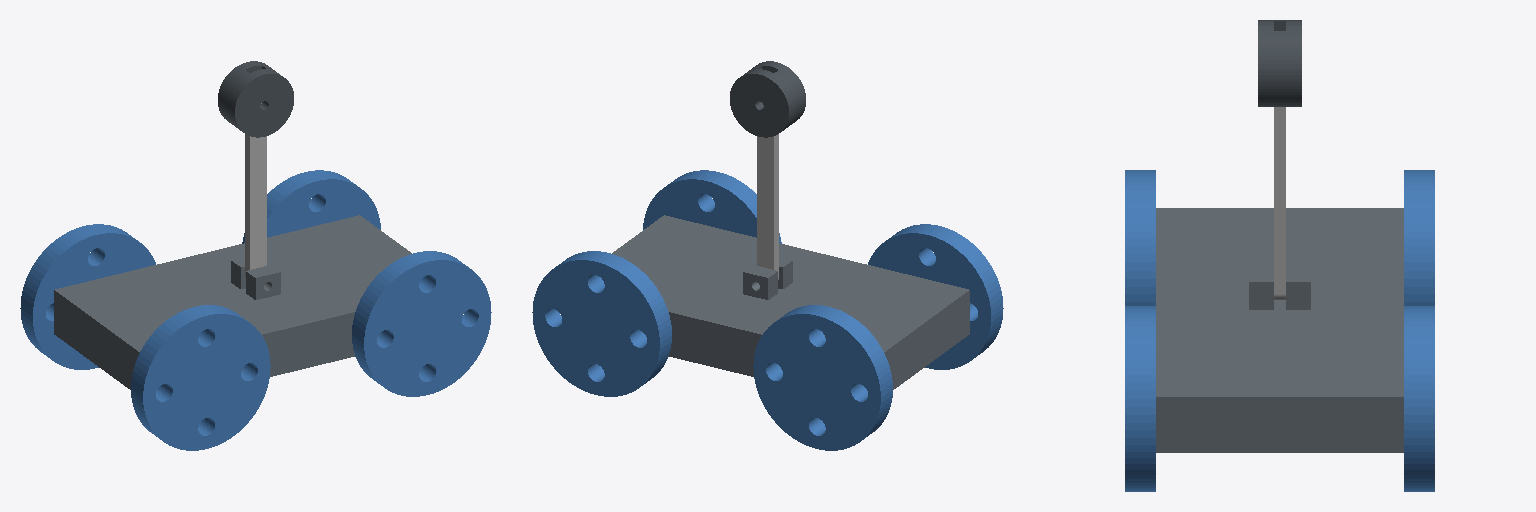
The robot description file, URDF, robot "ipc":
<robot name="ipc">
<link name="car_body">
<visual>
<origin xyz="-0.033622298634709682497 0.033476672472247531731 0.041832772375176380253" rpy="0 -0 0" />
<geometry>
<mesh filename="package://ipc_model_description/urdf/car_body.stl"/>
</geometry>
<material name="car_body_material">
<color rgba="0.43921568627450979783 0.47450980392156860699 0.50196078431372548323 1.0"/>
</material>
</visual>
<collision>
<origin xyz="-0.033622298634709682497 0.033476672472247531731 0.041832772375176380253" rpy="0 -0 0" />
<geometry>
<mesh filename="package://ipc_model_description/urdf/car_body.stl"/>
</geometry>
</collision>
<inertial>
<origin xyz="-0.033622298634709668619 0.033476672472247469281 0.067133955275540849184" rpy="0 0 0"/>
<mass value="5.3505841096373272237" />
<inertia ixx="0.018940104743840818075" ixy="0"  ixz="0" iyy="0.055777709544330651703" iyz="0" izz="0.072243878803116709508" />
</inertial>
</link>

<link name="pendulum">
<visual>
<origin xyz="-2.0816681711721685133e-17 -0.10000000000000000555 0.0050000000000000009714" rpy="1.570796326794896558 -0 0" />
<geometry>
<mesh filename="package://ipc_model_description/urdf/pendulum.stl"/>
</geometry>
<material name="pendulum_material">
<color rgba="0.70196078431372543882 0.70196078431372543882 0.70196078431372543882 1.0"/>
</material>
</visual>
<collision>
<origin xyz="-2.0816681711721685133e-17 -0.10000000000000000555 0.0050000000000000009714" rpy="1.570796326794896558 -0 0" />
<geometry>
<mesh filename="package://ipc_model_description/urdf/pendulum.stl"/>
</geometry>
</collision>
<visual>
<origin xyz="-4.1633363423443370266e-17 -0.20000000000000003886 0.0050000000000000009714" rpy="3.141592653589793116 -0 0" />
<geometry>
<mesh filename="package://ipc_model_description/urdf/ball.stl"/>
</geometry>
<material name="ball_material">
<color rgba="0.34901960784313723618 0.37647058823529411242 0.4000000000000000222 1.0"/>
</material>
</visual>
<collision>
<origin xyz="-4.1633363423443370266e-17 -0.20000000000000003886 0.0050000000000000009714" rpy="3.141592653589793116 -0 0" />
<geometry>
<mesh filename="package://ipc_model_description/urdf/ball.stl"/>
</geometry>
</collision>
<inertial>
<origin xyz="-3.6909872187572602882e-17 -0.18913733919835717945 0.0050000000000000009714" rpy="0 0 0"/>
<mass value="1.0473305407344080109" />
<inertia ixx="0.0018256645550231650772" ixy="-3.4746296843829777511e-19"  ixz="0" iyy="0.00042978210386013899428" iyz="0" izz="0.0020437818190169598775" />
</inertial>
</link>

<joint name="pendulum_joint" type="continuous">
<origin xyz="-0.033622298634709689436 0.02847667247224753076 0.10433277237517638025" rpy="-1.570796326794896558 -0 0" />
<parent link="car_body" />
<child link="pendulum" />
<axis xyz="0 0 1"/>
<limit effort="1" velocity="20" lower="-1.570796326794896558" upper="1.570796326794896558"/>
<joint_properties friction="0.0"/>
</joint>

<link name="wheel">
<visual>
<origin xyz="0 0 0" rpy="1.570796326794896558 -0 0" />
<geometry>
<mesh filename="package://ipc_model_description/urdf/wheel.stl"/>
</geometry>
<material name="wheel_material">
<color rgba="0.32549019607843138191 0.52941176470588235947 0.75294117647058822484 1.0"/>
</material>
</visual>
<collision>
<origin xyz="0 0 0" rpy="1.570796326794896558 -0 0" />
<geometry>
<mesh filename="package://ipc_model_description/urdf/wheel.stl"/>
</geometry>
</collision>
<inertial>
<origin xyz="-3.2702586900588424138e-18 -6.1757557840125702573e-18 -0.012500000000000002429" rpy="0 0 0"/>
<mass value="1.5791058393636416834" />
<inertia ixx="0.0023187292961022662463" ixy="0"  ixz="0" iyy="0.0023187292961022662463" iyz="0" izz="0.0044729684006041530581" />
</inertial>
</link>

<joint name="wheel_joint_1" type="continuous">
<origin xyz="0.096377701365290335822 -0.066523327527752557087 0.066832772375176374702" rpy="-1.570796326794896558 -0 1.156482317317871725e-16" />
<parent link="car_body" />
<child link="wheel" />
<axis xyz="0 0 1"/>
<limit effort="1" velocity="20" />
<joint_properties friction="0.0"/>
</joint>

<link name="wheel_2">
<visual>
<origin xyz="0 0 0.024999999999999994449" rpy="1.570796326794896558 -0 0" />
<geometry>
<mesh filename="package://ipc_model_description/urdf/wheel.stl"/>
</geometry>
<material name="wheel_material">
<color rgba="0.32549019607843138191 0.52941176470588235947 0.75294117647058822484 1.0"/>
</material>
</visual>
<collision>
<origin xyz="0 0 0.024999999999999994449" rpy="1.570796326794896558 -0 0" />
<geometry>
<mesh filename="package://ipc_model_description/urdf/wheel.stl"/>
</geometry>
</collision>
<inertial>
<origin xyz="-3.2702586900588424138e-18 -6.1757557840125702573e-18 0.01249999999999999202" rpy="0 0 0"/>
<mass value="1.5791058393636416834" />
<inertia ixx="0.0023187292961022662463" ixy="0"  ixz="0" iyy="0.0023187292961022662463" iyz="0" izz="0.0044729684006041530581" />
</inertial>
</link>

<joint name="wheel_joint_2" type="continuous">
<origin xyz="0.096377701365290308066 0.13347667247224753728 0.066832772375176374702" rpy="-1.570796326794896558 -0 0" />
<parent link="car_body" />
<child link="wheel_2" />
<axis xyz="0 0 1"/>
<limit effort="1" velocity="20" />
<joint_properties friction="0.0"/>
</joint>

<link name="wheel_3">
<visual>
<origin xyz="0 0 0.024999999999999994449" rpy="1.570796326794896558 -0 0" />
<geometry>
<mesh filename="package://ipc_model_description/urdf/wheel.stl"/>
</geometry>
<material name="wheel_material">
<color rgba="0.32549019607843138191 0.52941176470588235947 0.75294117647058822484 1.0"/>
</material>
</visual>
<collision>
<origin xyz="0 0 0.024999999999999994449" rpy="1.570796326794896558 -0 0" />
<geometry>
<mesh filename="package://ipc_model_description/urdf/wheel.stl"/>
</geometry>
</collision>
<inertial>
<origin xyz="-3.2702586900588424138e-18 -6.1757557840125702573e-18 0.01249999999999999202" rpy="0 0 0"/>
<mass value="1.5791058393636416834" />
<inertia ixx="0.0023187292961022662463" ixy="0"  ixz="0" iyy="0.0023187292961022662463" iyz="0" izz="0.0044729684006041530581" />
</inertial>
</link>

<joint name="wheel_joint_3" type="continuous">
<origin xyz="-0.16362229863470970082 0.13347667247224753728 0.066832772375176374702" rpy="-1.570796326794896558 -0 0" />
<parent link="car_body" />
<child link="wheel_3" />
<axis xyz="0 0 1"/>
<limit effort="1" velocity="20" />
<joint_properties friction="0.0"/>
</joint>

<link name="wheel_4">
<visual>
<origin xyz="0 0 0" rpy="1.570796326794896558 -0 0" />
<geometry>
<mesh filename="package://ipc_model_description/urdf/wheel.stl"/>
</geometry>
<material name="wheel_material">
<color rgba="0.32549019607843138191 0.52941176470588235947 0.75294117647058822484 1.0"/>
</material>
</visual>
<collision>
<origin xyz="0 0 0" rpy="1.570796326794896558 -0 0" />
<geometry>
<mesh filename="package://ipc_model_description/urdf/wheel.stl"/>
</geometry>
</collision>
<inertial>
<origin xyz="-3.2702586900588424138e-18 -6.1757557840125702573e-18 -0.012500000000000002429" rpy="0 0 0"/>
<mass value="1.5791058393636416834" />
<inertia ixx="0.0023187292961022662463" ixy="0"  ixz="0" iyy="0.0023187292961022662463" iyz="0" izz="0.0044729684006041530581" />
</inertial>
</link>

<joint name="wheel_joint_4" type="continuous">
<origin xyz="-0.16362229863470967306 -0.066523327527752584842 0.066832772375176374702" rpy="-1.570796326794896558 -0 1.156482317317871725e-16" />
<parent link="car_body" />
<child link="wheel_4" />
<axis xyz="0 0 1"/>
<limit effort="1" velocity="20" />
<joint_properties friction="0.0"/>
</joint>


</robot>

--- Facts derived from the render (not from the file) ---
Views: 3 orthographic renders of the robot side by side, from view 1: azimuth 30°, elevation 25°; view 2: azimuth 150°, elevation 25°; view 3: azimuth 270°, elevation 25°.
Model ipc with 6 links and 5 joints (5 continuous), rooted at car_body, posed every joint at zero.
Links seen in each view (by area): view 1: car_body, wheel_4, wheel, wheel_3, pendulum, wheel_2; view 2: car_body, wheel_3, wheel_2, wheel_4, pendulum, wheel; view 3: car_body, pendulum, wheel, wheel_2, wheel_3, wheel_4.
Boxes of the visible links, <box> form: car_body: <box>54,215,411,389</box>; wheel_4: <box>131,305,270,450</box>; wheel: <box>352,251,491,396</box>; wheel_3: <box>20,224,155,369</box>; pendulum: <box>218,61,293,279</box>; wheel_2: <box>242,170,380,243</box>; car_body: <box>612,215,969,389</box>; wheel_3: <box>753,305,892,450</box>; wheel_2: <box>532,251,671,396</box>; wheel_4: <box>868,224,1003,369</box>; pendulum: <box>730,61,805,279</box>; wheel: <box>643,170,781,243</box>; car_body: <box>1156,208,1403,452</box>; pendulum: <box>1258,20,1301,300</box>; wheel: <box>1125,306,1155,491</box>; wheel_2: <box>1404,306,1434,491</box>; wheel_3: <box>1404,170,1434,305</box>; wheel_4: <box>1125,170,1155,305</box>.
Bounding box of the posed robot: 0.41 × 0.25 × 0.3475 m (x, y, z).
7 mesh visuals loaded from 4 distinct referenced files (4 binary STL).